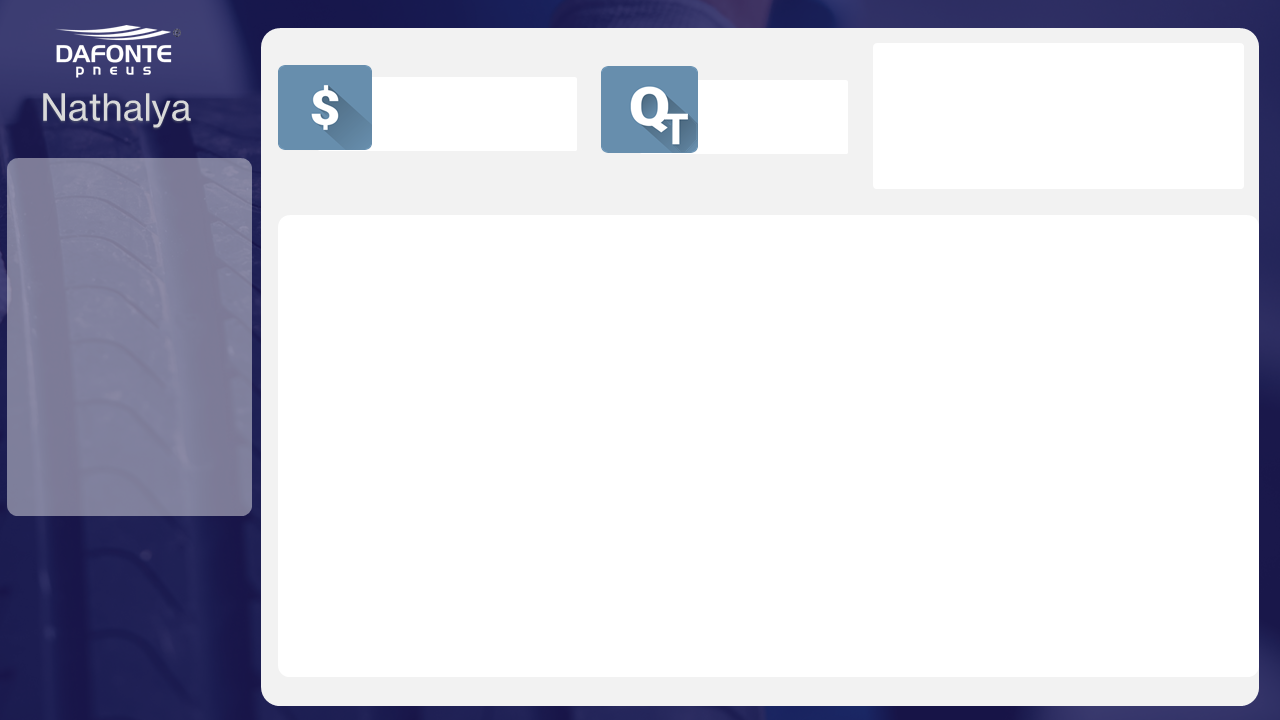

The dashboard page shown, as its layout file describes it:
{"tool":"powerbi","page":{"name":" 👧🏻       Nathalya","canvas":[1280,720],"ordinal":2},"visuals":[{"type":"pageNavigator","box":[28.6,522.8,176.8,189.5],"z":0,"group":"g1"},{"type":"tableEx","fields":{"Values":["etl.ID","etl.CLIENTE","etl.VALOR","etl.MES","etl.PORTADOR","etl.DICIONARIO"]},"box":[282.2,216.7,970.9,446.8],"z":0},{"type":"pageNavigator","box":[32,527.3,36.8,181.1],"z":1000,"group":"g1"},{"type":"textFilter25A4896A83E0487089E2B90C9AE57C8A","title":"Cliente","fields":{"field":["etl.CLIENTE"]},"box":[12.7,162.3,234,77.1],"z":1000},{"type":"slicer","title":"Semana","fields":{"Values":["etl.SEMANA"]},"box":[12.7,236.6,234,68.8],"z":2000},{"type":"slicer","title":"Status","fields":{"Values":["etl.PORTADOR"]},"box":[12.7,304,234,136.3],"z":3000},{"type":"slicer","title":"Dicionário","fields":{"Values":["etl.DICIONARIO"]},"box":[12.7,434.8,234,74.3],"z":4000},{"type":"tableEx","fields":{"Values":["etl.PORTADOR","etl.VALOR","etl.PORTADOR"]},"box":[879.8,42.4,379.1,140],"z":5000},{"type":"card","fields":{"Values":["etl.VALOR"]},"box":[386.8,81.2,166.5,61.9],"z":6000},{"type":"card","fields":{"Values":["etl.PORTADOR"]},"box":[703.3,82.6,140.4,61.9],"z":7000},{"type":"group","id":"g1","title":"Grupo 1","box":[28.6,522.8,176.8,189.5],"z":8000}]}

Visuals, with their boxes in screenshot pixels (x1, y1, x2, y2), scaled from the page's 1280x720 canvas onto the 1280x720 screenshot:
pageNavigator: (29,523,205,712)
tableEx - etl.ID x etl.CLIENTE: (282,217,1253,664)
pageNavigator: (32,527,69,708)
"Cliente" textFilter25A4896A83E0487089E2B90C9AE57C8A: (13,162,247,239)
"Semana" slicer: (13,237,247,305)
"Status" slicer: (13,304,247,440)
"Dicionário" slicer: (13,435,247,509)
tableEx - etl.PORTADOR x etl.VALOR: (880,42,1259,182)
card - etl.VALOR: (387,81,553,143)
card - etl.PORTADOR: (703,83,844,144)
"Grupo 1" group: (29,523,205,712)
